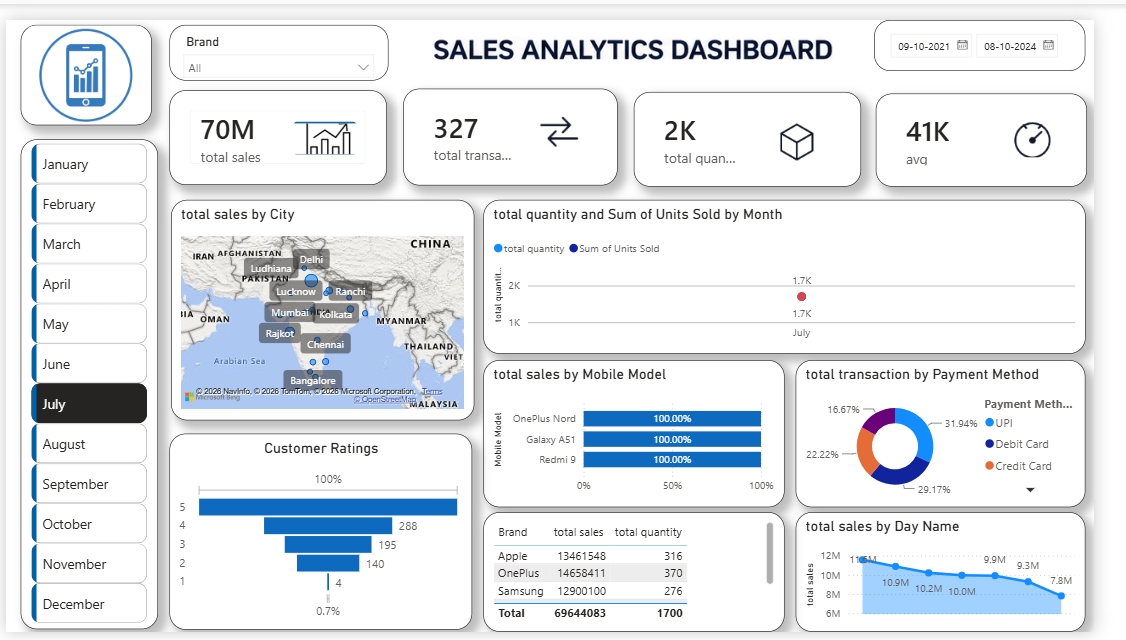

This screenshot's page, from the dashboard's own definition file:
{"tool":"powerbi","page":{"name":"Page 1","canvas":[1280,720],"ordinal":0},"visuals":[{"type":"shape","box":[18.1,141.3,161.2,576],"z":0},{"type":"advancedSlicerVisual","fields":{"Values":["Sheet1.Date.Variation.Date Hierarchy.Month"]},"box":[25.4,141.3,146.7,576],"z":1000},{"type":"map","fields":{"Category":["Salesdata.City"],"Size":["Salesdata.total"]},"box":[193.8,211.9,356.8,259],"z":2000},{"type":"cardVisual","fields":{"Data":["Salesdata.total quantity"]},"box":[739,85.1,267.3,111.5],"z":3000},{"type":"cardVisual","fields":{"Data":["Salesdata.total transaction"]},"box":[467.3,81.5,251.9,113.5],"z":4000},{"type":"cardVisual","fields":{"Data":["Salesdata.avg"]},"box":[1023.4,86.9,248.1,109.6],"z":5000},{"type":"cardVisual","fields":{"Data":["Salesdata.total"]},"box":[192,83.3,255.8,111.5],"z":6000},{"type":"lineChart","fields":{"Y":["Salesdata.total quantity","Sum(Salesdata.Units Sold)"],"Category":["Salesdata.Date.Variation.Date Hierarchy.Month","Salesdata.Date.Variation.Date Hierarchy.Day"]},"box":[561.5,211.9,708.3,181.1],"z":7000},{"type":"hundredPercentStackedBarChart","fields":{"Category":["Salesdata.Mobile Model"],"Y":["Salesdata.total sales"]},"box":[561.5,400,353.8,173.1],"z":8000},{"type":"donutChart","fields":{"Category":["Salesdata.Payment Method"],"Y":["Salesdata.total transaction"]},"box":[928.8,400,340.4,173.1],"z":9000},{"type":"funnel","title":"Customer Ratings ","fields":{"Category":["Salesdata.Customer Ratings"],"Y":["Sum(Salesdata.Customer Ratings)"]},"box":[192.3,486.5,355.8,230.8],"z":10000},{"type":"areaChart","fields":{"Category":["Salesdata.Day Name"],"Y":["Salesdata.total"]},"box":[928.8,578.8,340.4,140.4],"z":11000},{"type":"tableEx","fields":{"Values":["Salesdata.Brand","Salesdata.total","Salesdata.total quantity"]},"box":[561.5,578.8,353.8,140.4],"z":12000},{"type":"image","box":[18.1,5.4,154,117.7],"z":13000},{"type":"image","box":[503.6,14.5,469.2,34.6],"z":14000},{"type":"slicer","fields":{"Values":["Salesdata.Date"]},"box":[1021.6,0,248.2,59.8],"z":15000},{"type":"slicer","fields":{"Values":["Salesdata.Brand"]},"box":[192,5.4,257.2,65.2],"z":15001}]}

Visuals, with their boxes in screenshot pixels (x1, y1, x2, y2), scaled from the page's 1280x720 canvas onto the 1126x640 screenshot:
shape: [left=16, top=126, right=158, bottom=638]
advancedSlicerVisual - Sheet1.Date.Variation.Date Hierarchy.Month: [left=22, top=126, right=151, bottom=638]
map - Salesdata.City x Salesdata.total: [left=170, top=188, right=484, bottom=419]
cardVisual - Salesdata.total quantity: [left=650, top=76, right=885, bottom=175]
cardVisual - Salesdata.total transaction: [left=411, top=72, right=633, bottom=173]
cardVisual - Salesdata.avg: [left=900, top=77, right=1119, bottom=175]
cardVisual - Salesdata.total: [left=169, top=74, right=394, bottom=173]
lineChart - Salesdata.total quantity x Sum(Salesdata.Units Sold): [left=494, top=188, right=1117, bottom=349]
hundredPercentStackedBarChart - Salesdata.Mobile Model x Salesdata.total sales: [left=494, top=356, right=805, bottom=509]
donutChart - Salesdata.Payment Method x Salesdata.total transaction: [left=817, top=356, right=1116, bottom=509]
"Customer Ratings " funnel: [left=169, top=432, right=482, bottom=638]
areaChart - Salesdata.Day Name x Salesdata.total: [left=817, top=514, right=1116, bottom=639]
tableEx - Salesdata.Brand x Salesdata.total: [left=494, top=514, right=805, bottom=639]
image: [left=16, top=5, right=151, bottom=109]
image: [left=443, top=13, right=856, bottom=44]
slicer - Salesdata.Date: [left=899, top=0, right=1117, bottom=53]
slicer - Salesdata.Brand: [left=169, top=5, right=395, bottom=63]
